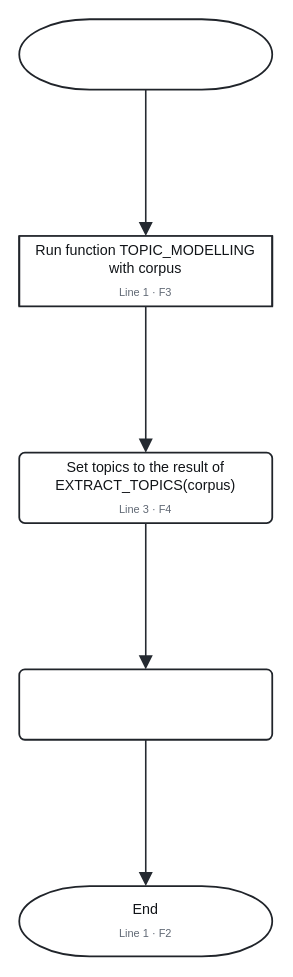
This 293x977 diagram has some shape labels left out. The centre of each missing label's shape, as x and y in pixels:
"Return topics Line 4 · F5" goes at (145,704).
"Start Line 1 · F1" goes at (145,54).
